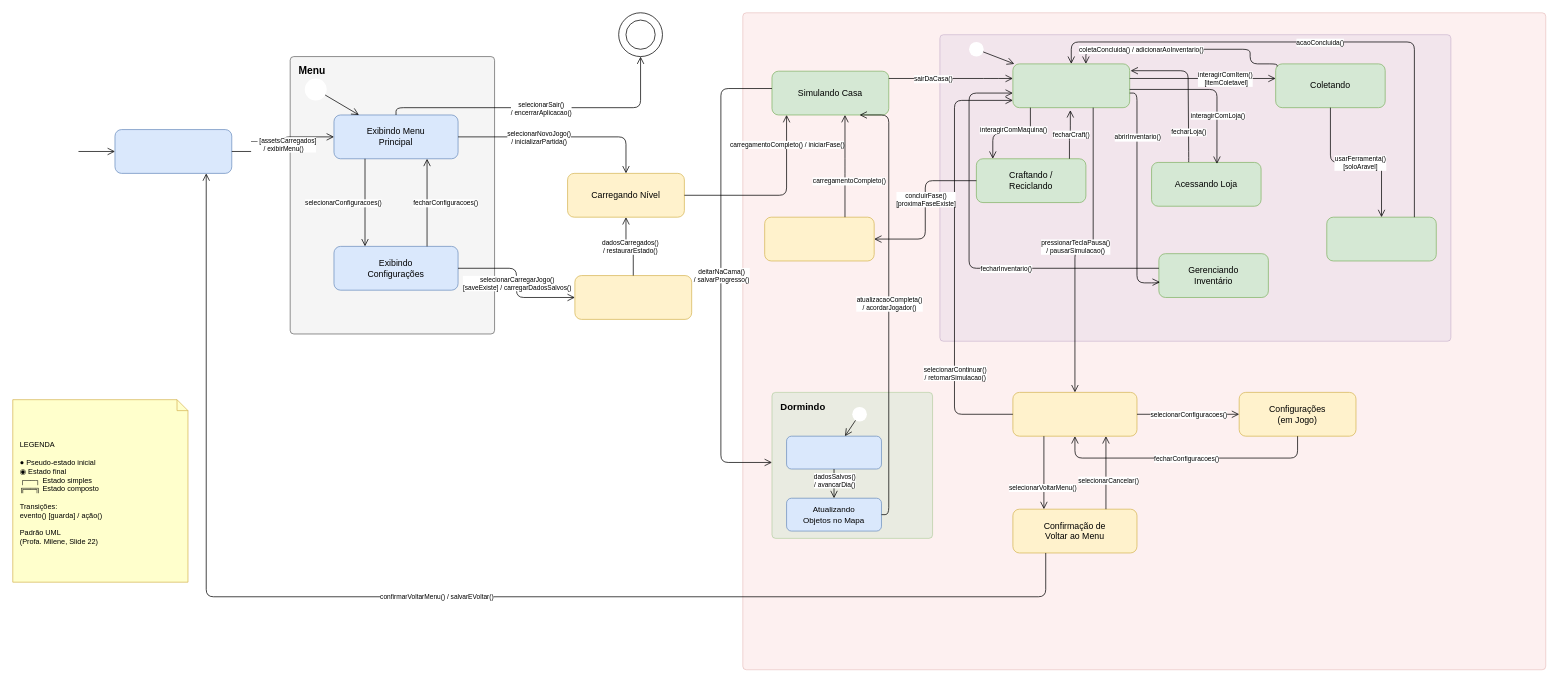
Some shapes in this 1559 by 683 pixel diagram are drawn without their labels. The centre of each missing label's shape, as x and y in pixels:
"Carregando Dados Salvos" belongs at pixel 633 297.
"Carregando Menu" belongs at pixel 173 151.
"Carregando Novo Nível" belongs at pixel 819 238.
"Exibindo Menu de Pausa" belongs at pixel 1074 414.
"Explorando" belongs at pixel 1071 85.
"Plantando / Regando" belongs at pixel 1381 238.
"Salvando Jogo" belongs at pixel 833 452.
